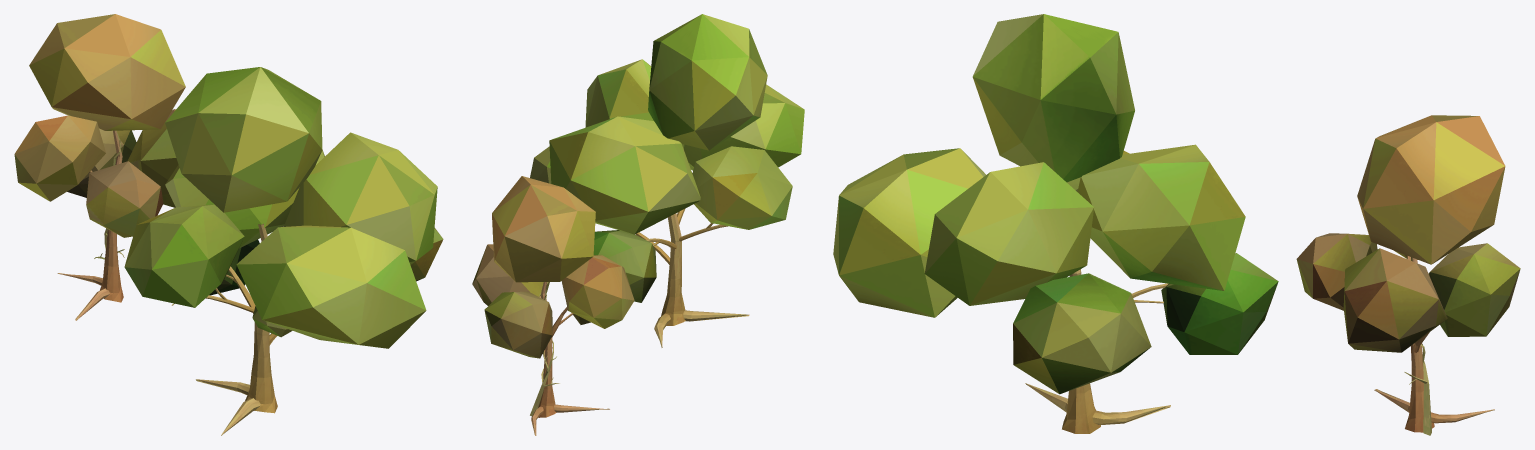
File: Trees_01.FBX
The picture shows the model from 3 angles, left to right: view 1: azimuth 30°, elevation 25°; view 2: azimuth 150°, elevation 25°; view 3: azimuth 270°, elevation 25°; orthographic projection. The views are drawn at different scales.
Parts seen in each view (by area): view 1: Trees_Big_01, Trees_Yellow_01; view 2: Trees_Big_01, Trees_Yellow_01; view 3: Trees_Big_01, Trees_Yellow_01.
Boxes of the visible parts, x1=… form: Trees_Big_01: x1=124, y1=67, x2=443, y2=435; Trees_Yellow_01: x1=14, y1=14, x2=185, y2=320; Trees_Big_01: x1=530, y1=14, x2=804, y2=347; Trees_Yellow_01: x1=472, y1=176, x2=634, y2=435; Trees_Big_01: x1=833, y1=14, x2=1278, y2=433; Trees_Yellow_01: x1=1296, y1=115, x2=1520, y2=435.
Bounding box in the file's own units: 224 × 264 × 407.
